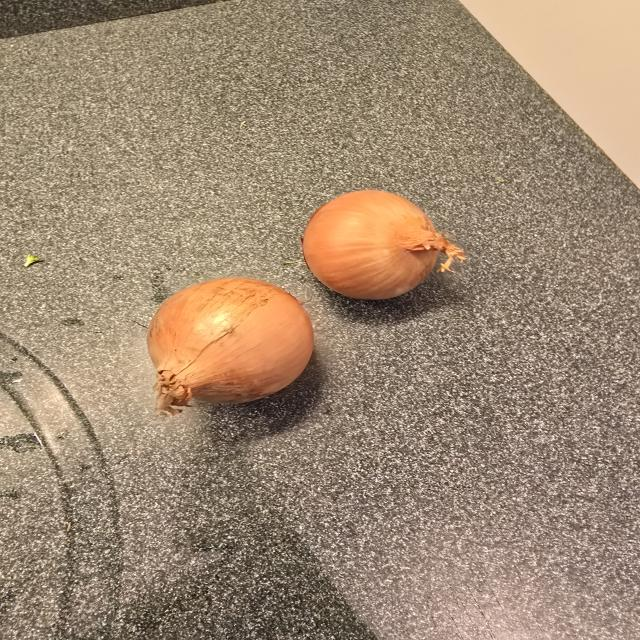Onion: (148, 278, 314, 415), (302, 190, 465, 299)
